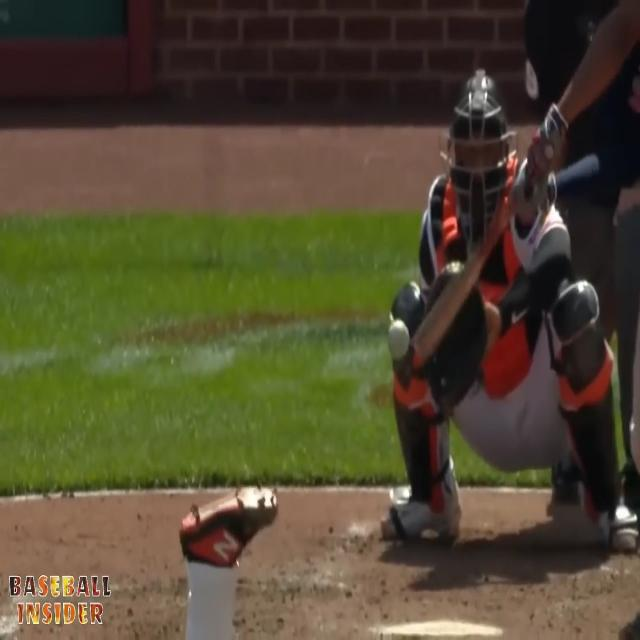baseball: (387, 317, 410, 363)
